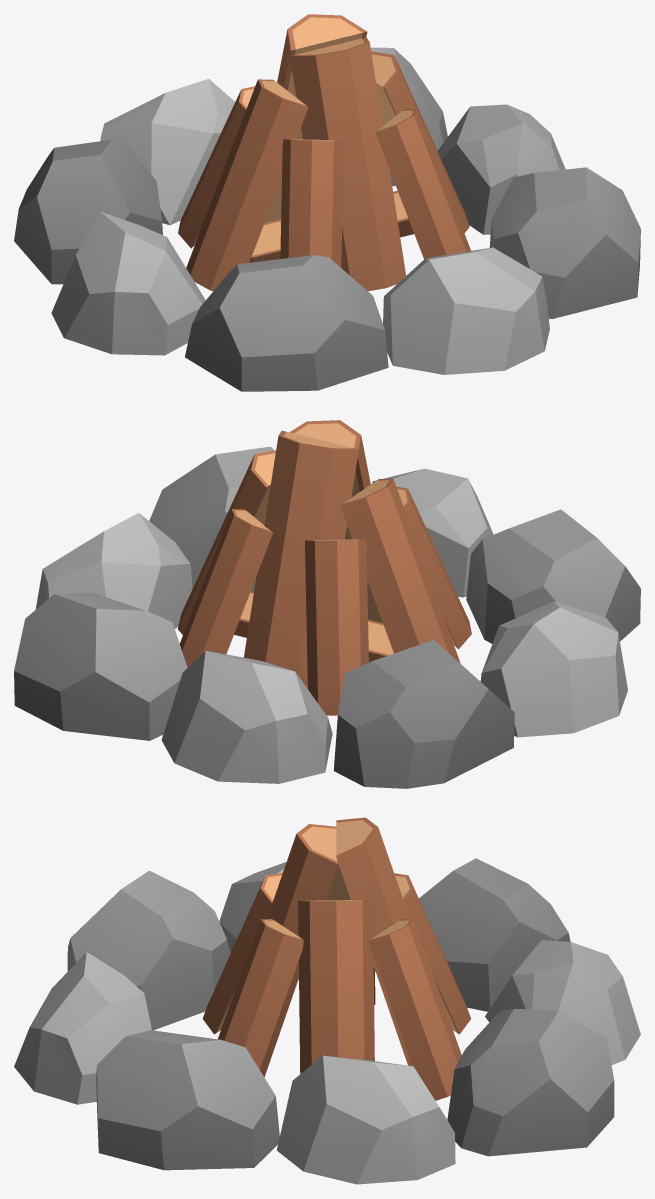
File: bonfire.fbx
3 views of the same model, one above another, from view 1: azimuth 30°, elevation 25°; view 2: azimuth 150°, elevation 25°; view 3: azimuth 270°, elevation 25° (orthographic).
Visible parts, largest first — view 1: bonfire; view 2: bonfire; view 3: bonfire.
Part boxes in pixels (box(x1,y1,x2,y2)): bonfire: box(14, 14, 640, 391); bonfire: box(14, 420, 640, 788); bonfire: box(14, 817, 640, 1184).
Size of the model in its own units: 126 by 51.41 by 126.
